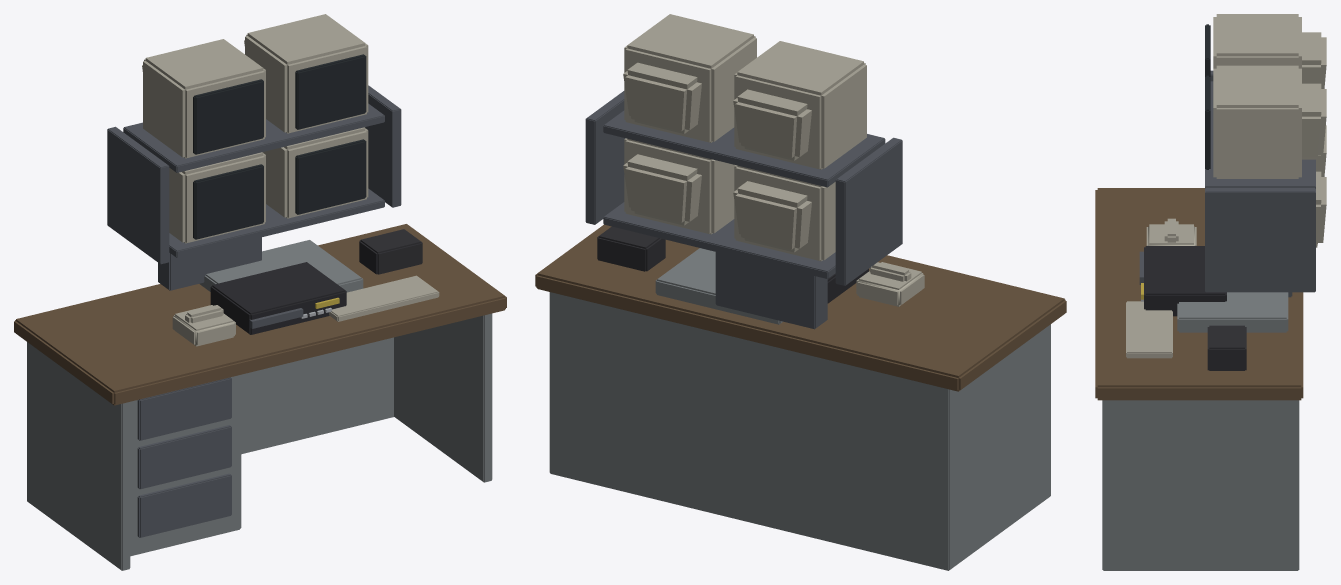
File: desk_security.glb
The picture shows the model from 3 angles, left to right: view 1: azimuth 30°, elevation 25°; view 2: azimuth 150°, elevation 25°; view 3: azimuth 270°, elevation 25°; orthographic projection. The views are drawn at different scales.
Visible parts, largest first — view 1: desk_mesh, state_loose_mesh, rack_mesh; view 2: desk_mesh, state_loose_mesh, rack_mesh; view 3: desk_mesh, state_loose_mesh, rack_mesh.
Part boxes in pixels (x1,y1,x2,y2): desk_mesh: (14,224,506,570); state_loose_mesh: (142,14,368,243); rack_mesh: (107,85,401,334); desk_mesh: (535,224,1066,570); state_loose_mesh: (623,14,866,261); rack_mesh: (585,91,902,303); desk_mesh: (1095,188,1303,570); state_loose_mesh: (1205,14,1326,247); rack_mesh: (1139,70,1315,316).
Size of what is drawn, in the model's own units: 1.7 by 1.71 by 0.8335.
